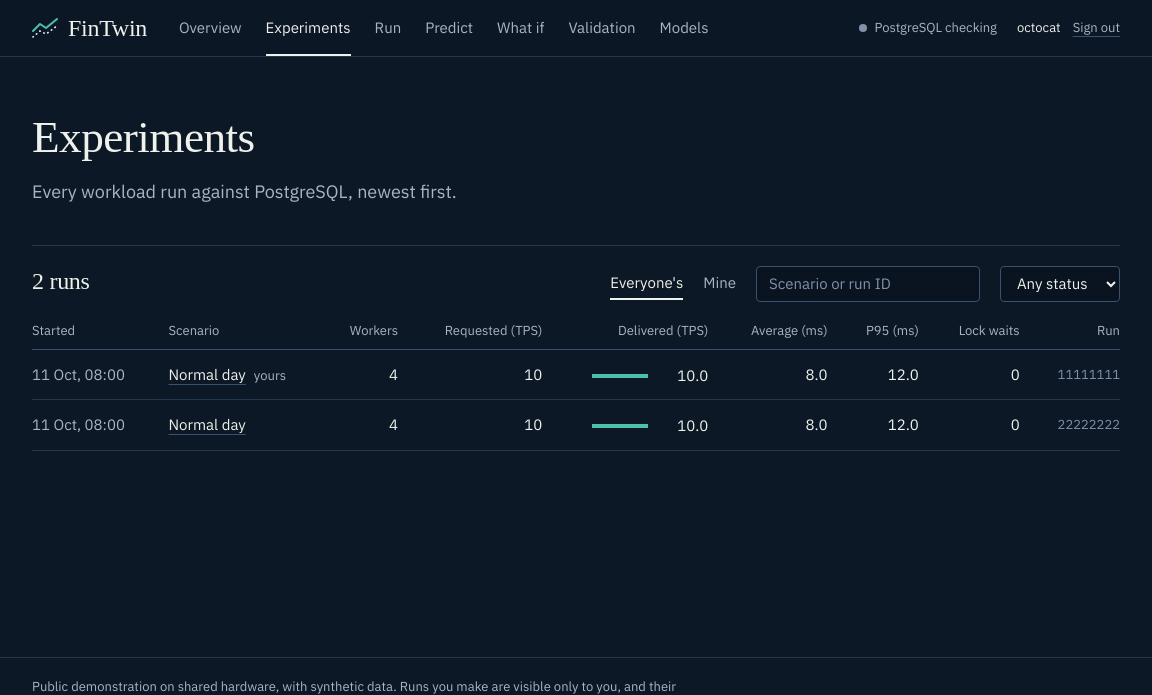
a public server, signed in › can narrow the experiments to the runs this person started
Expected: the heading "2 runs" is shown, [32, 266, 90, 296]
Click the button "Mine" at (720, 284), box [703, 268, 736, 300]
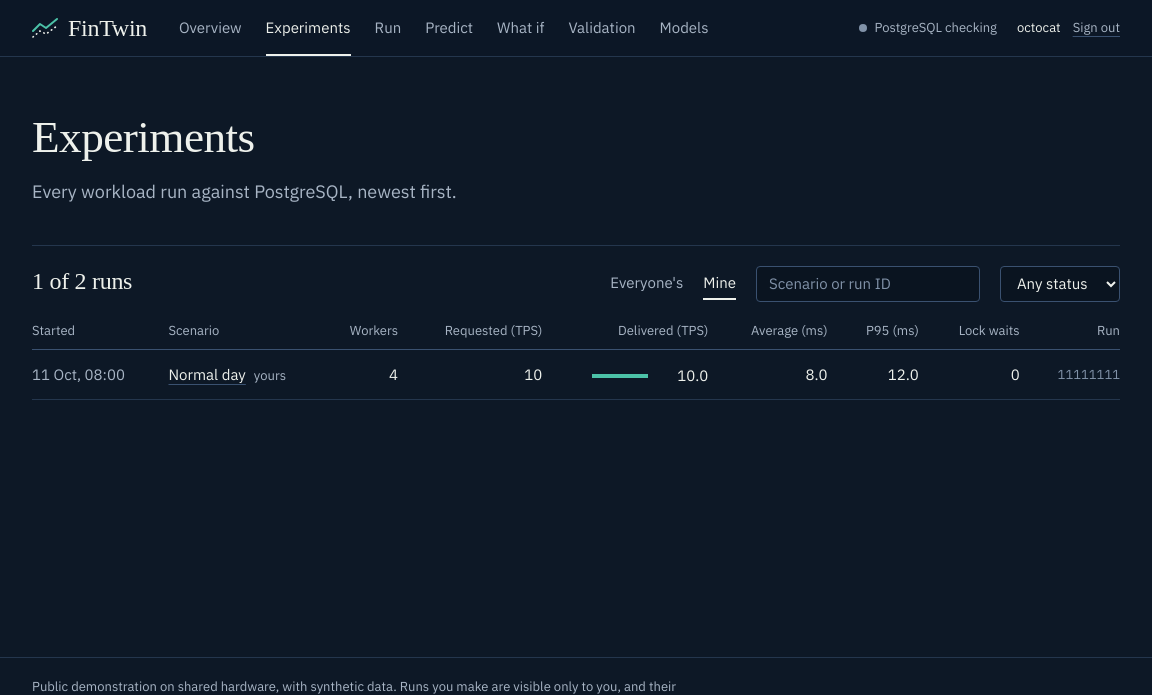
Expected: the heading "1 of 2 runs" is shown, [32, 266, 132, 296]
